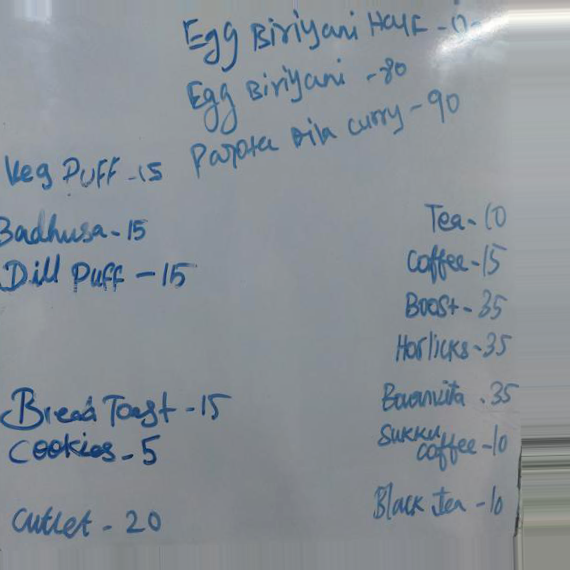Tea - 10: (418, 197, 510, 240)
badhusa -15: (1, 207, 153, 251)
black tea - 10: (371, 481, 513, 525)
boost - 35: (401, 286, 514, 328)
bournvita - 35: (378, 373, 521, 417)
bread toast - 15: (1, 382, 243, 432)
coffee - 15: (408, 239, 508, 283)
cookies - 5: (7, 436, 176, 468)
cutlet - 20: (11, 500, 174, 547)
dill puff - 15: (1, 253, 214, 300)
egg briyani - 80: (172, 62, 354, 113)
egg briyani half -50: (177, 7, 490, 54)
horlicks - 35: (387, 326, 523, 369)
parotta - 90: (182, 117, 403, 177)
sukku coffee - 10: (377, 418, 519, 472)
veg puff - 15: (1, 151, 170, 201)
